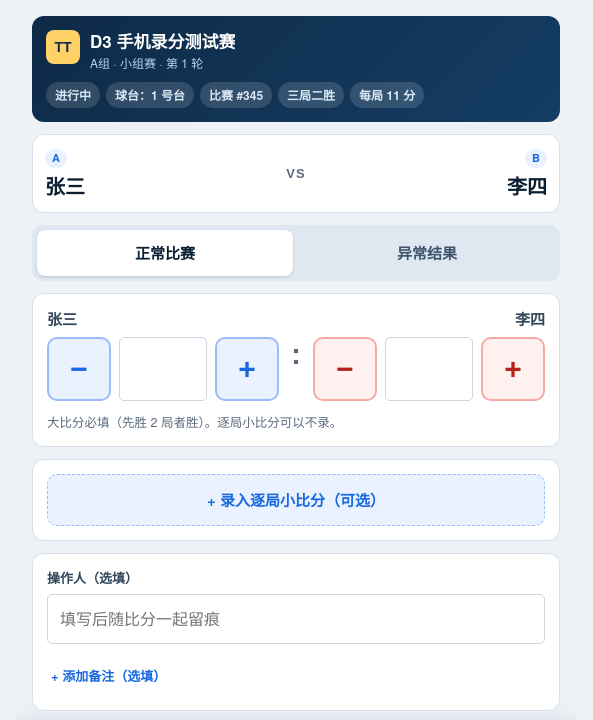
Test: 正常比分：只录大比分 › 提交成功但状态刷新失败时，完成态只显示一条合并提示
The image size is (593, 720).
Expected: the text "D3 手机录分测试赛" is shown, [90,30,236,52]
Type "2" into the number field named "张三 大比分" at (163, 369), box [119,337,207,401]
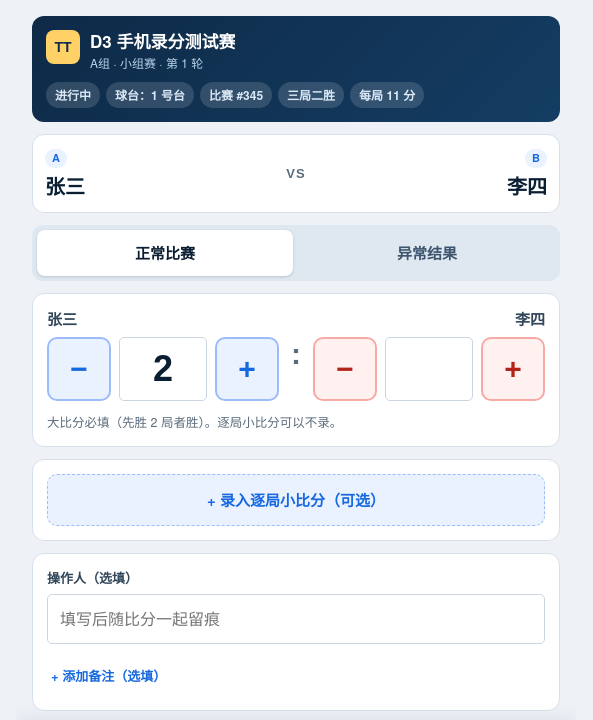
Type "1" into the number field named "李四 大比分" at (429, 369), box [385,337,473,401]
(page scrolled)
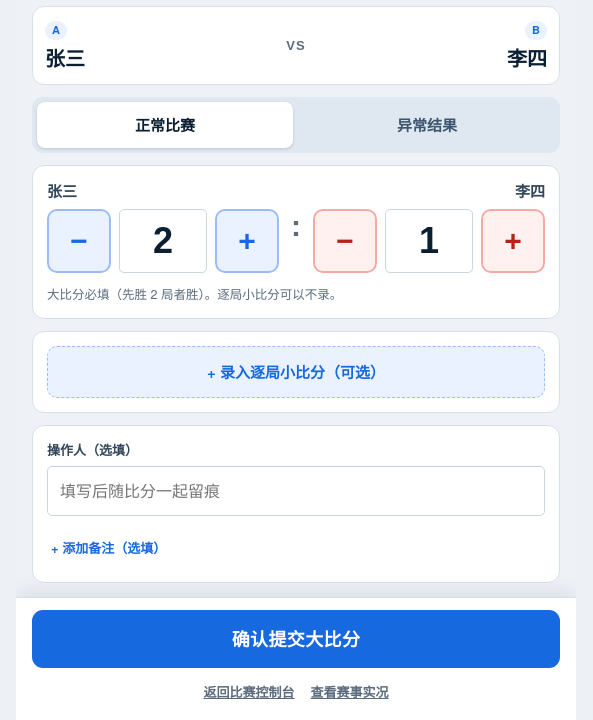
Click the button "确认提交大比分" at (296, 639), box [32,610,560,668]
(page scrolled)
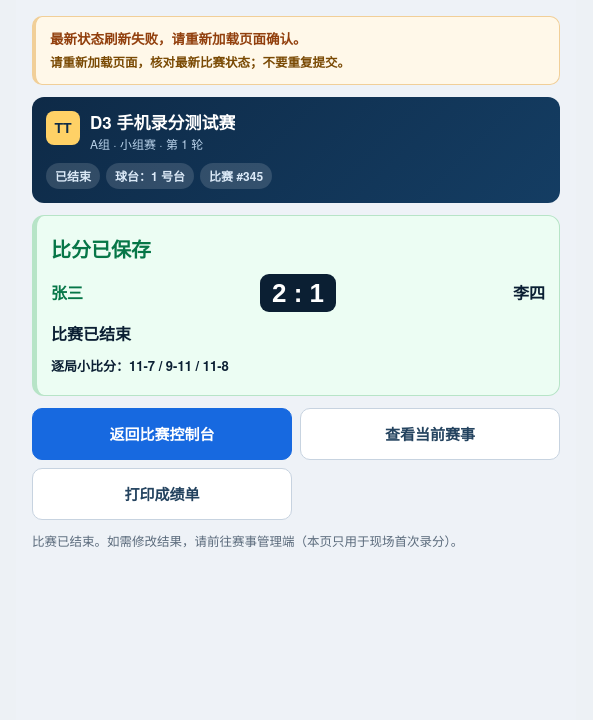
Expected: the text "最新状态刷新失败，请重新加载页面确认。" is shown, [50,29,306,48]
Expected: the text "比分已保存" is shown once, [51,234,151,263]
Expected: the text "请重新加载页面，核对最新比赛状态；不要重复提交。" is shown, [50,53,350,71]
